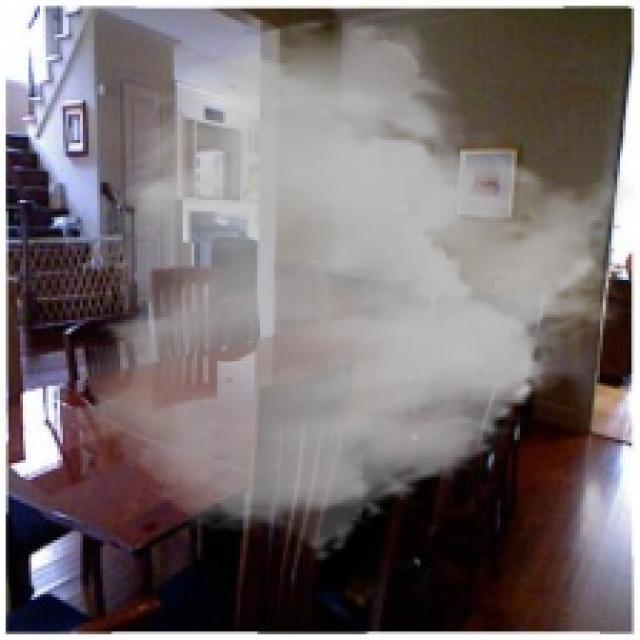Smoke: (80, 14, 637, 563)
